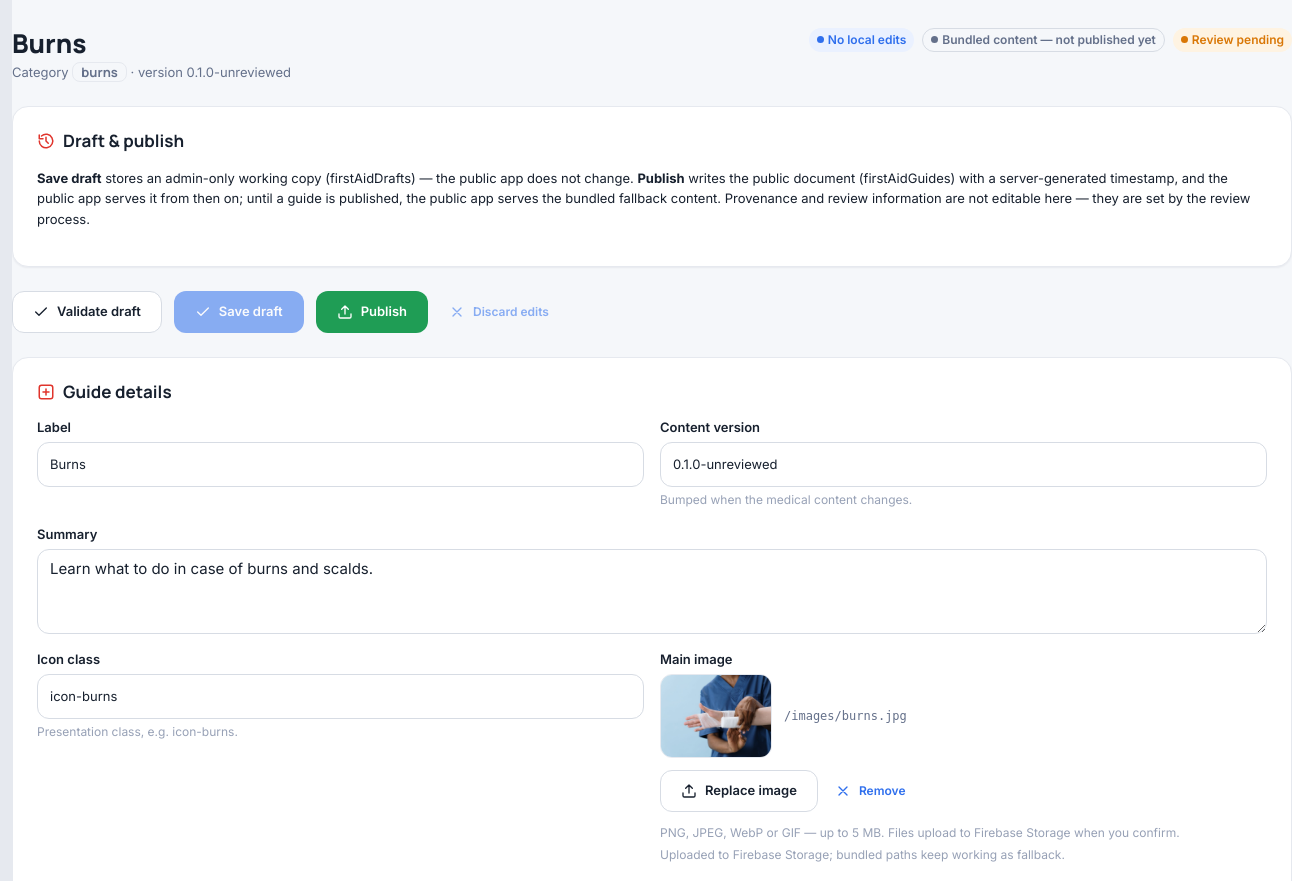
Test: AdminGuideEditorPage — editor › edits title, summary, step instruction and warning with dirty tracking
Expected: the heading "Burns" is shown, [12,24,87,60]
Expected: the button "Discard edits" is disabled, [440,299,558,325]
Replace the text in the field labelled "Label" with "Burns & scalds" at coordinates (340, 465), box [37,442,644,487]
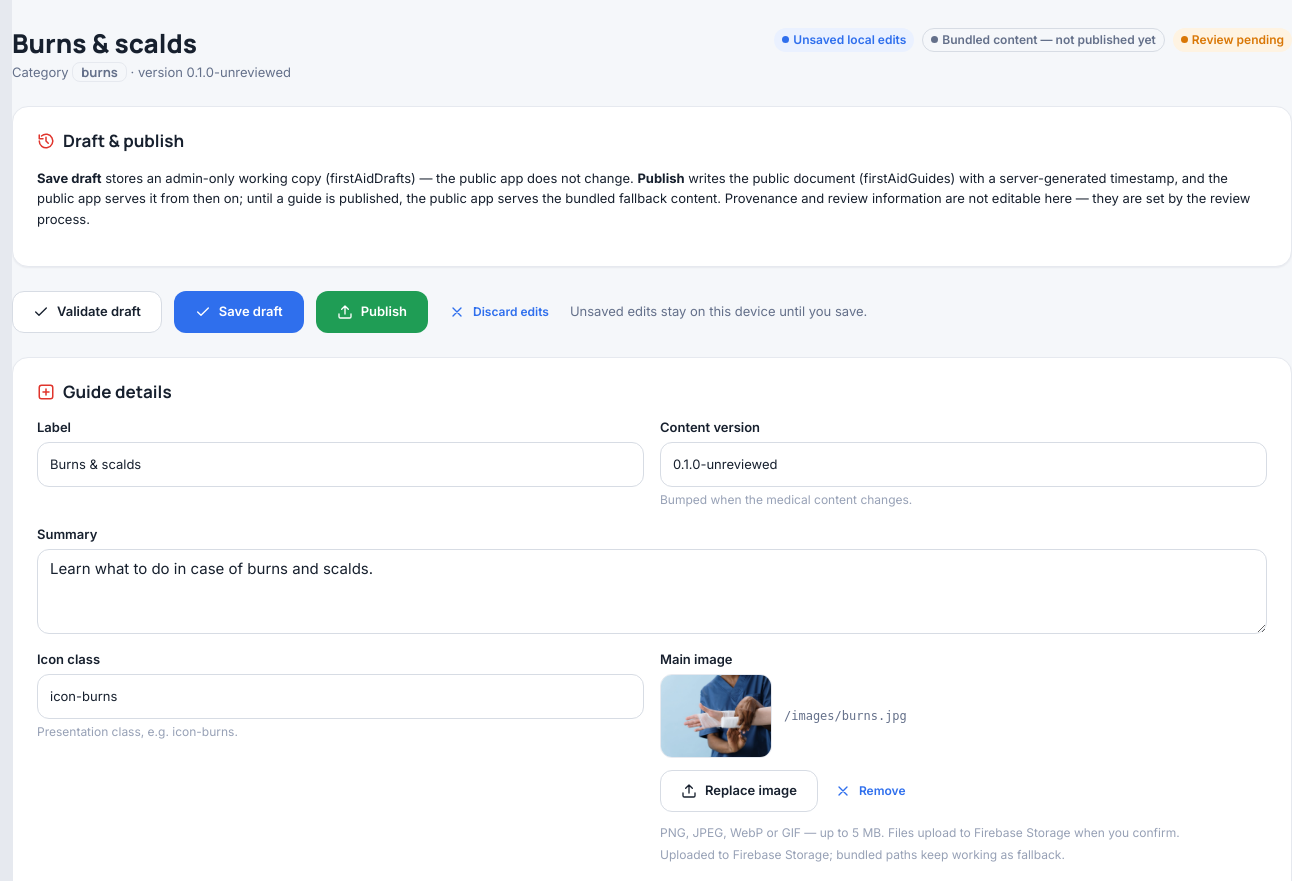
Replace the text in the text box labelled "Summary" with "Cooling and covering burns." at coordinates (652, 592), box [37,549,1267,634]
(page scrolled)
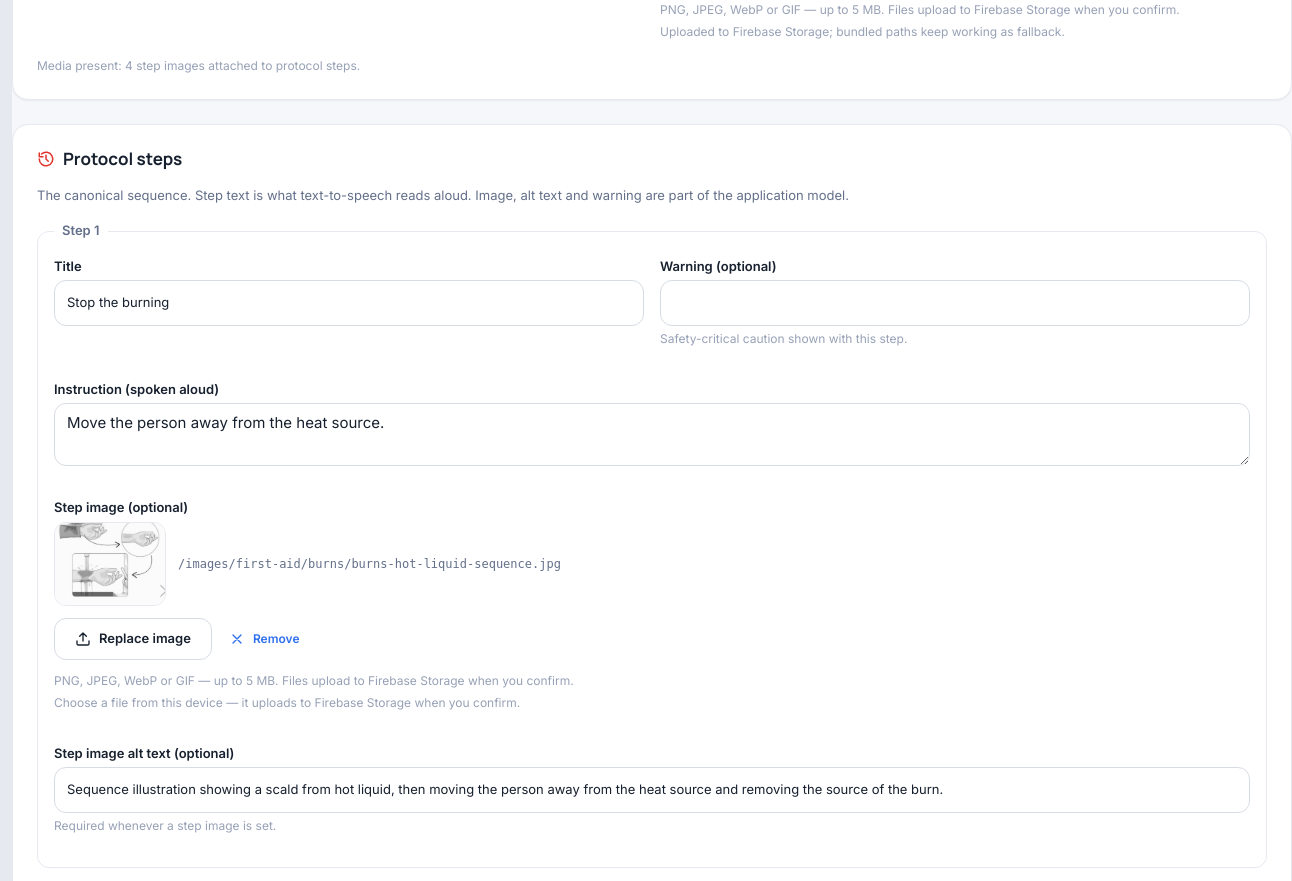
Replace the text in the text box labelled "Instruction (spoken aloud)" with "Move away from the heat source first." at coordinates (652, 435), box [54,403,1250,466]
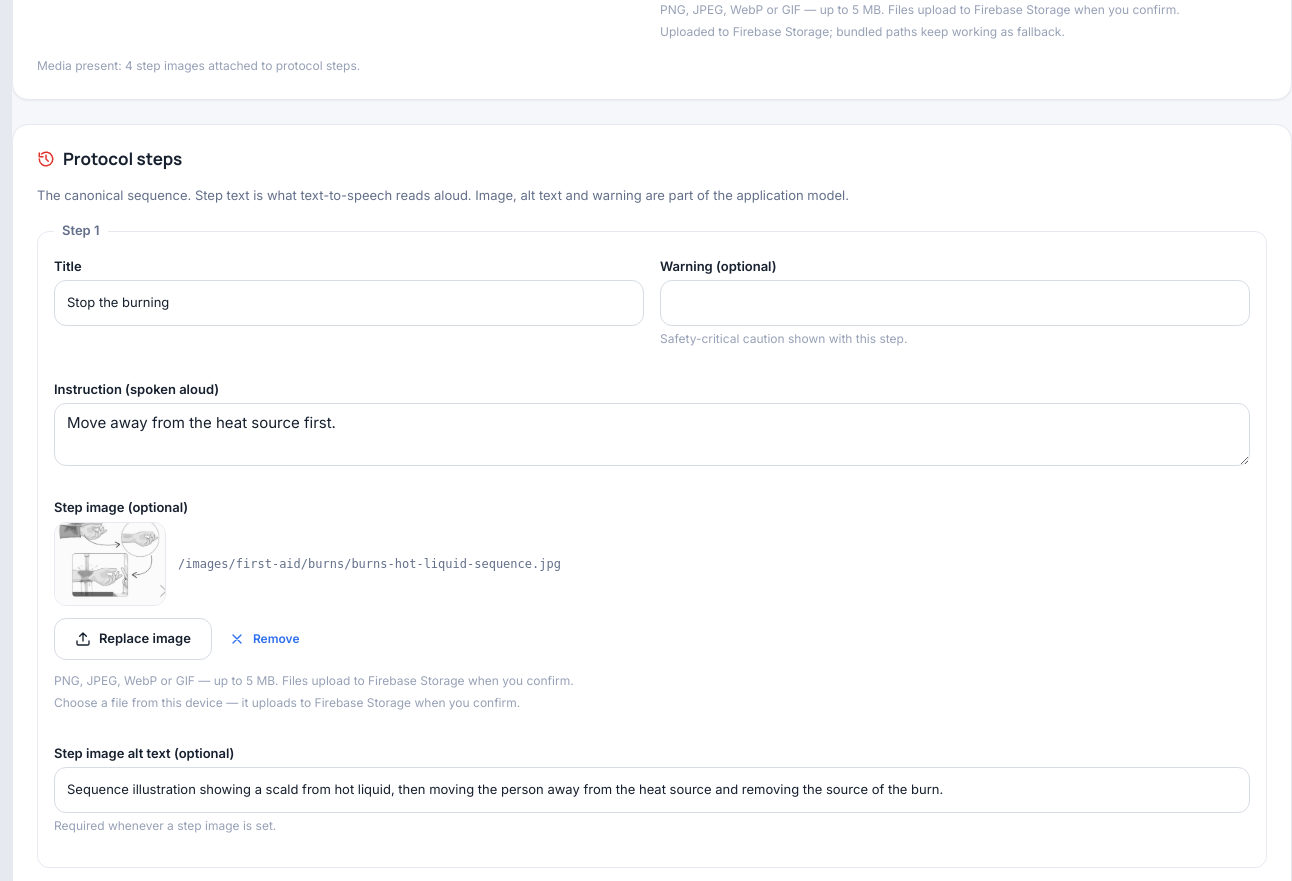
Type "Never apply ice directly." into the field labelled "Warning (optional)" at coordinates (955, 303), box [660,280,1250,326]
(page scrolled)
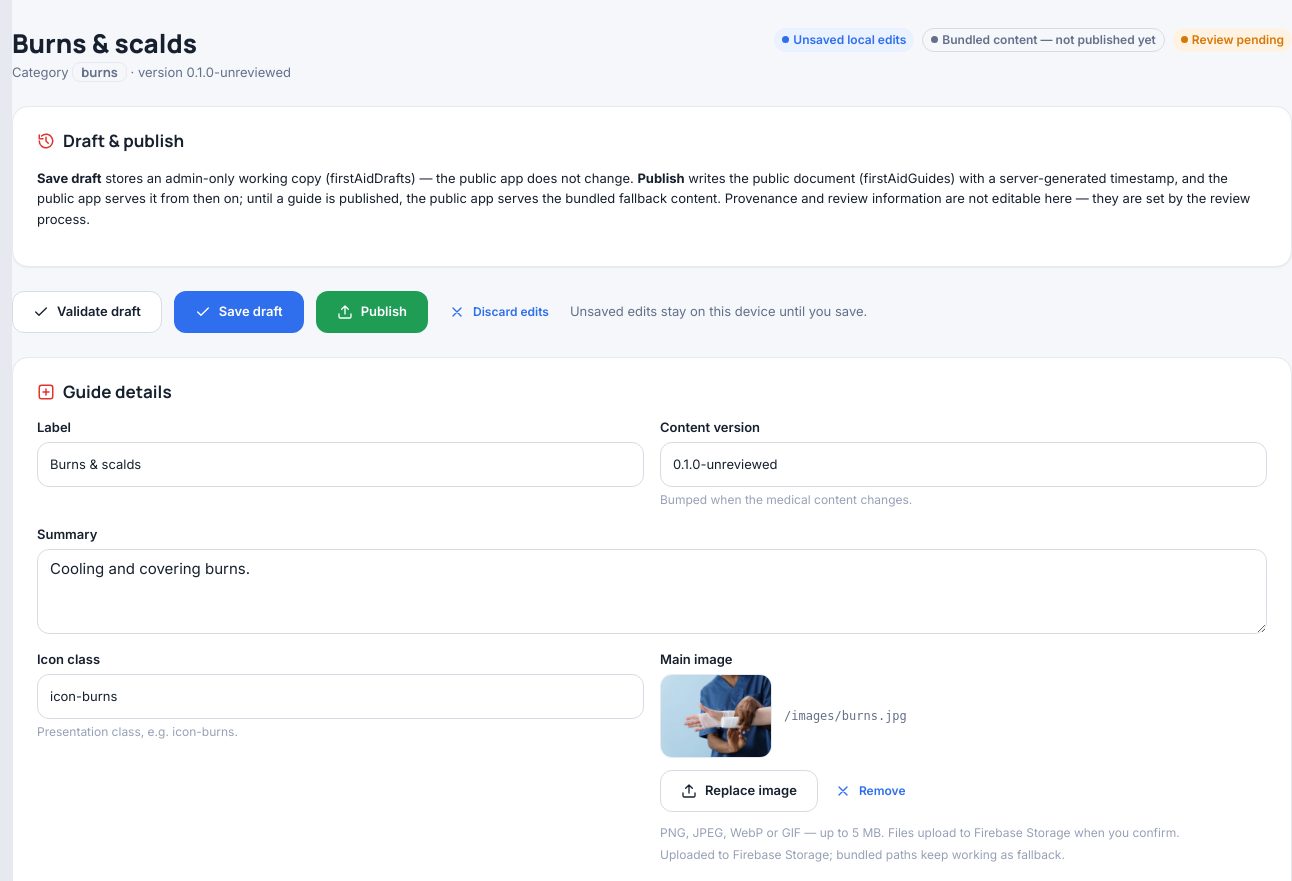
Now the text "Unsaved local edits" is shown, box [774,28,914,52]
Now the button "Discard edits" is enabled
Click the button "Discard edits" at coordinates (499, 312), box [440,299,558,325]
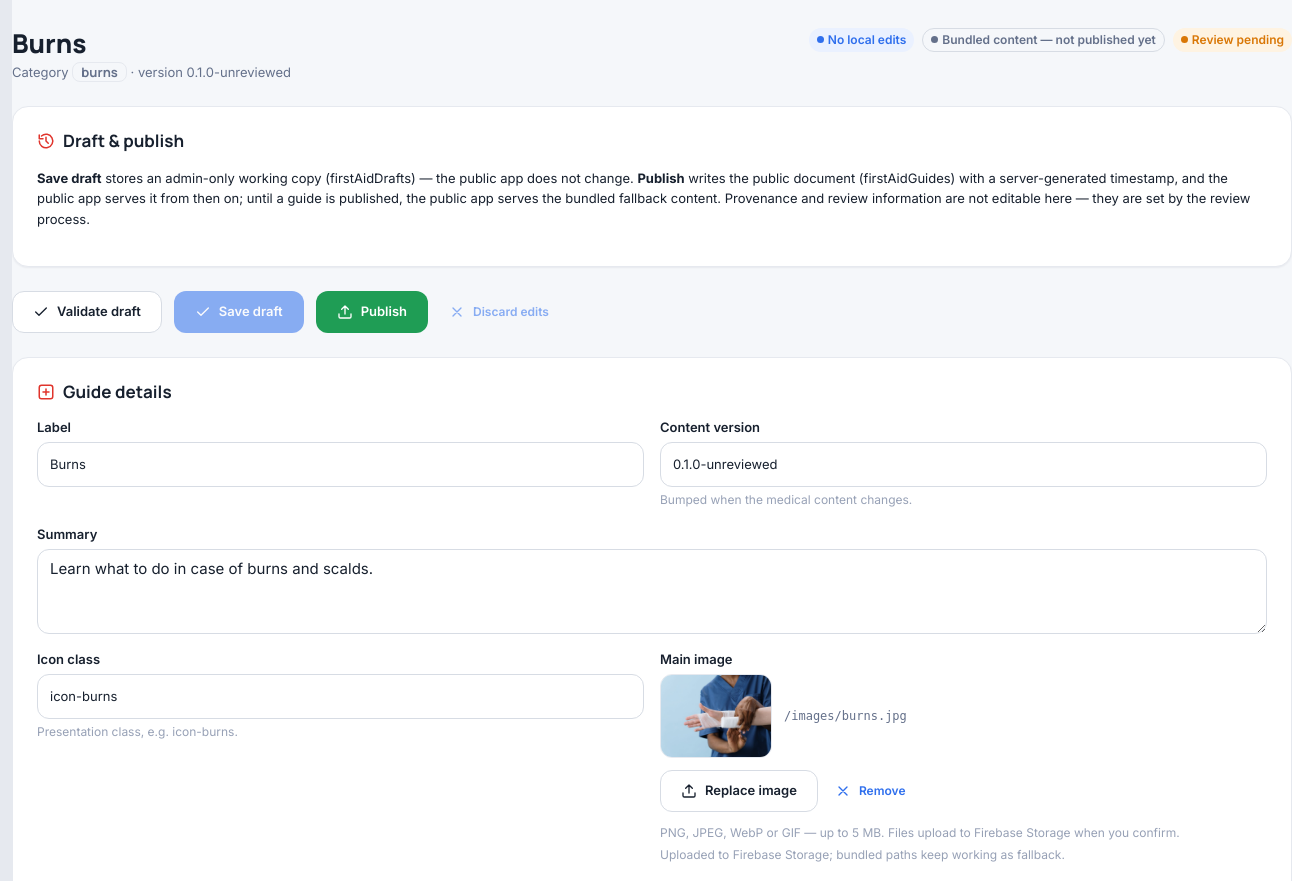
Now the field labelled "Label" holds "Burns", box [37,442,644,487]
Now the text box labelled "Summary" holds "Learn what to do in case of burns and scalds.", box [37,549,1267,634]
Now the text "No local edits" is shown, box [809,28,914,52]
